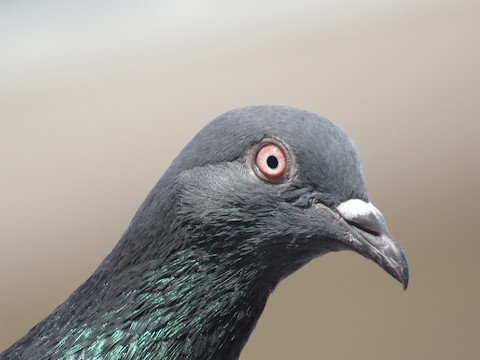pigeon: (16, 103, 418, 346)
